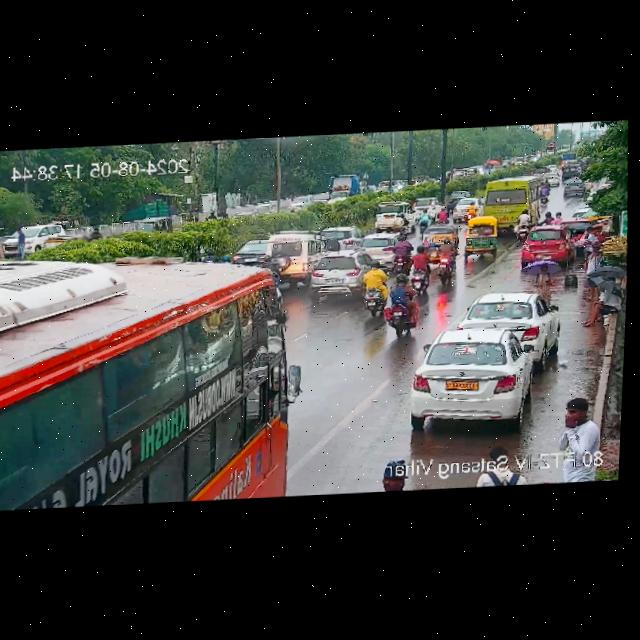bus: (0, 241, 273, 512), (473, 175, 546, 228)
car: (405, 329, 550, 430), (458, 291, 556, 348), (307, 249, 384, 293), (265, 229, 318, 283), (456, 217, 504, 262), (523, 224, 574, 266), (359, 232, 401, 261), (319, 227, 358, 251), (234, 236, 266, 264), (371, 199, 397, 230), (419, 223, 459, 243), (562, 174, 590, 194), (289, 193, 316, 212), (202, 245, 231, 262), (410, 197, 440, 212), (254, 200, 277, 217), (446, 189, 472, 201)
motorcycle: (381, 280, 421, 339), (358, 263, 394, 316), (403, 247, 431, 296), (429, 238, 456, 284), (514, 208, 533, 239), (392, 214, 407, 236), (543, 210, 563, 226), (415, 208, 430, 227), (206, 210, 220, 220)
person: (551, 397, 600, 458), (580, 284, 622, 325), (577, 226, 603, 264)
truck: (320, 170, 372, 200)
